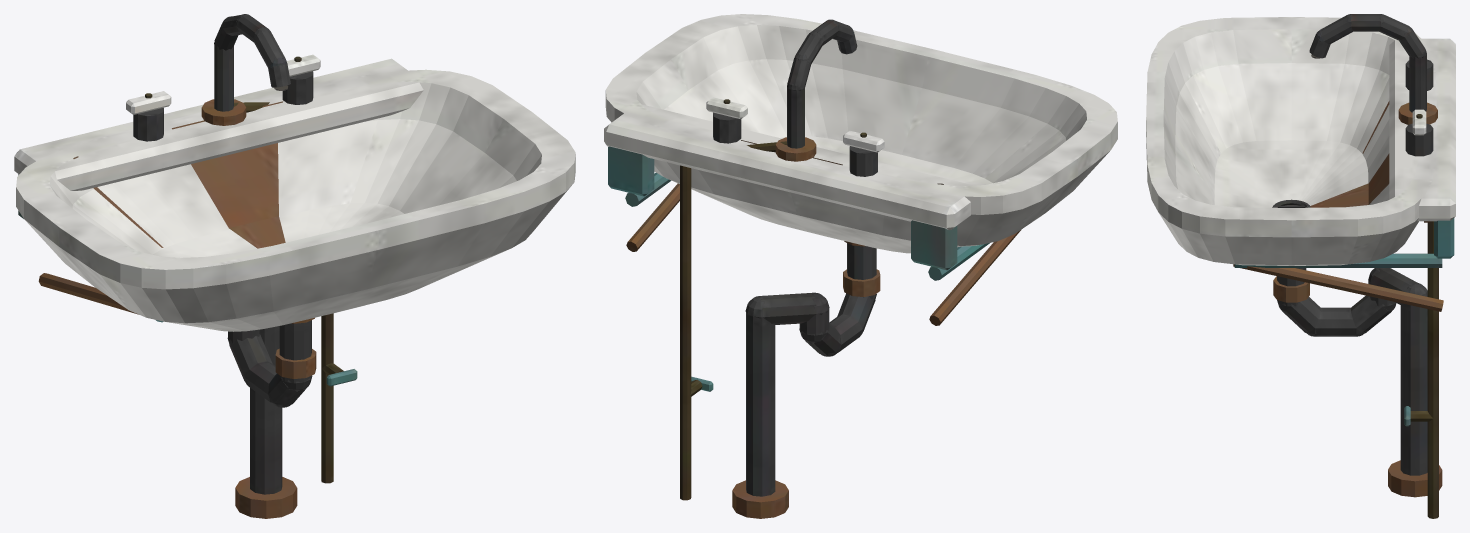
File: B17_wash_basin_v1.glb
The picture shows the model from 3 angles, left to right: view 1: azimuth 30°, elevation 25°; view 2: azimuth 150°, elevation 25°; view 3: azimuth 270°, elevation 25°; orthographic projection. The views are drawn at different scales.
Parts seen in each view (by area): view 1: Heavy wall basin with recessed bowl; view 2: Heavy wall basin with recessed bowl; view 3: Heavy wall basin with recessed bowl.
Boxes of the visible parts, x1=… form: Heavy wall basin with recessed bowl: x1=14, y1=14, x2=575, y2=518; Heavy wall basin with recessed bowl: x1=604, y1=14, x2=1117, y2=518; Heavy wall basin with recessed bowl: x1=1146, y1=14, x2=1455, y2=518.
Size of the model in its own units: 0.7686 by 0.8 by 0.4951.
Materials: 6 (6 with a texture image).
